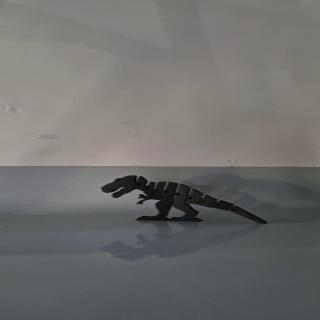dino: (100, 174, 268, 224)
